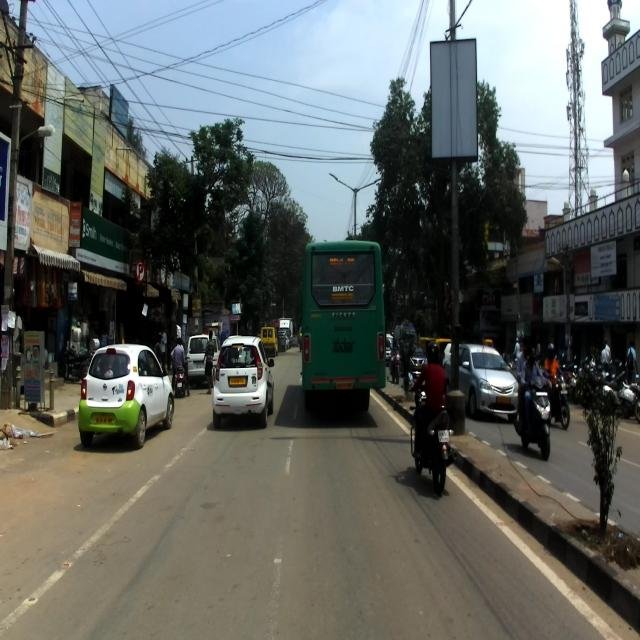Car_Maruti-Suzuki: (212, 334, 275, 429), (186, 332, 220, 388)
Car_Nissan: (77, 342, 174, 447)
Car_Toyota: (444, 344, 520, 419)
bus: (300, 240, 386, 411)
motorcycle_Honda: (408, 372, 458, 494)
scooter: (512, 374, 553, 459)
